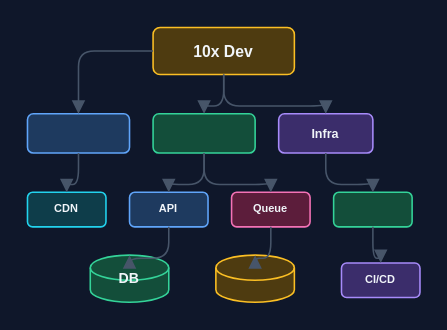
Some shapes in this 447 by 330 pixel diagram are drawn without their labels. The centre of each missing label's shape, as x and y in pixels:
Backend: (x=203, y=132)
Cache: (x=254, y=278)
Frontend: (x=78, y=132)
K8s: (x=372, y=209)
